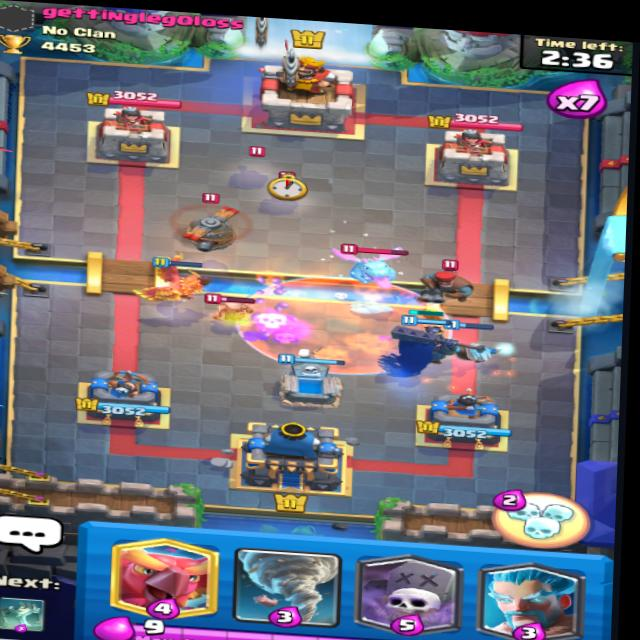Babydragon: (328, 243, 418, 287)
Flyingmachine: (152, 190, 263, 257)
Minipekka: (191, 292, 253, 324)
hunter: (415, 255, 490, 306)
